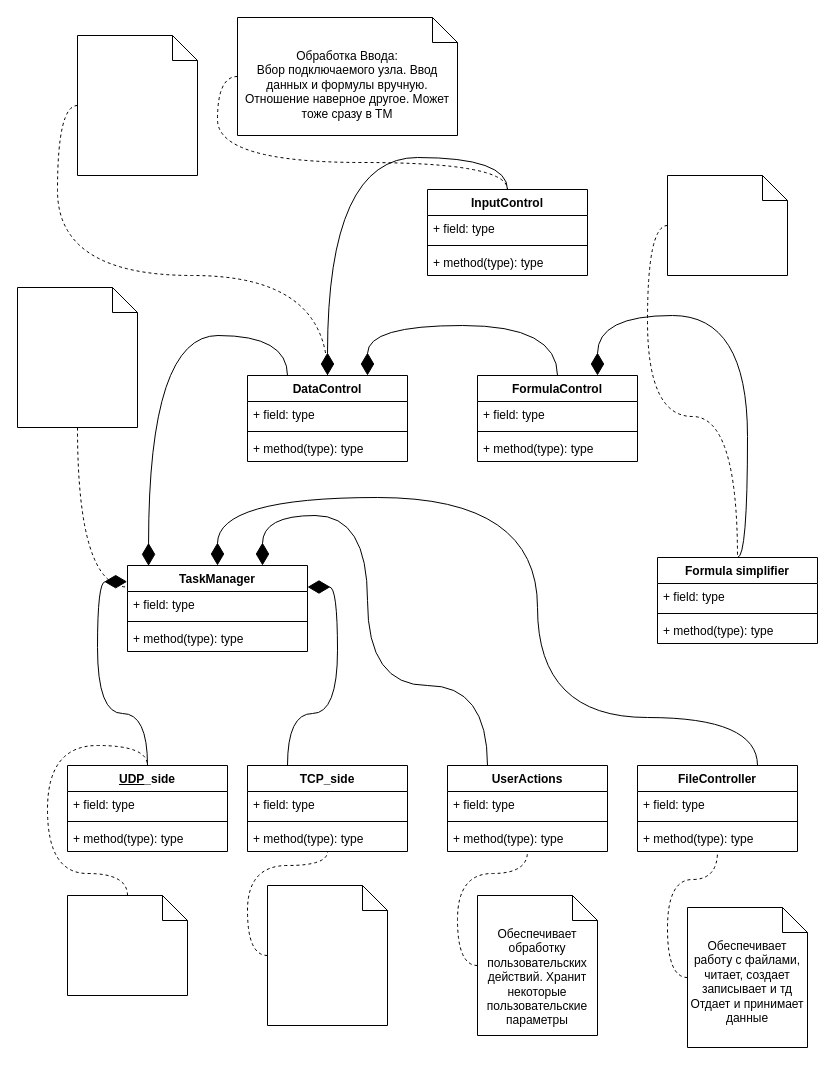
This 835x1065 diagram has some shape labels left out. The centre of each missing label's shape, as x and y in pixels:
"Обеспечивает преобразование данных и распределение их по парсерам" goes at (x=137, y=105).
"Обеспечивает соединение с кластером и прием/передачу данных" goes at (x=327, y=955).
"Обнаружение и кластера и сообщает о доступных узлах" goes at (x=127, y=945).
"Опционадьное упрашение формулы через дерево" goes at (x=727, y=225).
"Программный клей иничиализация и настройка всего" goes at (x=77, y=357).
